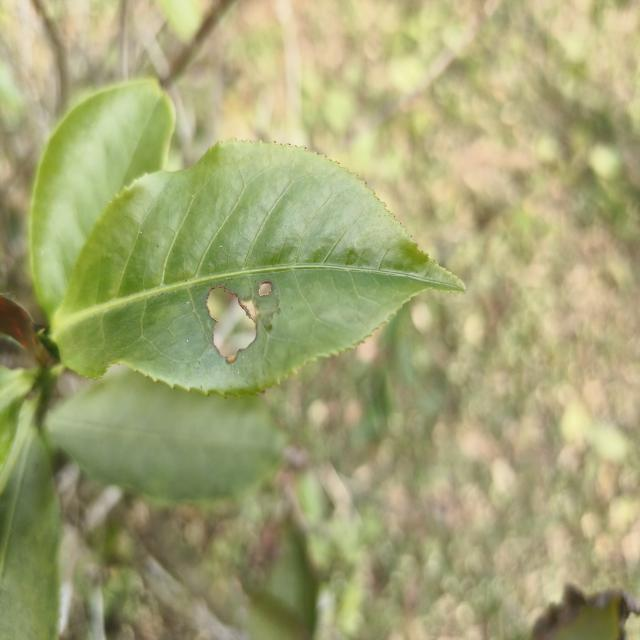Leaf: (51, 141, 464, 395), (29, 79, 175, 322), (46, 372, 285, 503), (0, 427, 61, 640), (248, 520, 318, 640)
